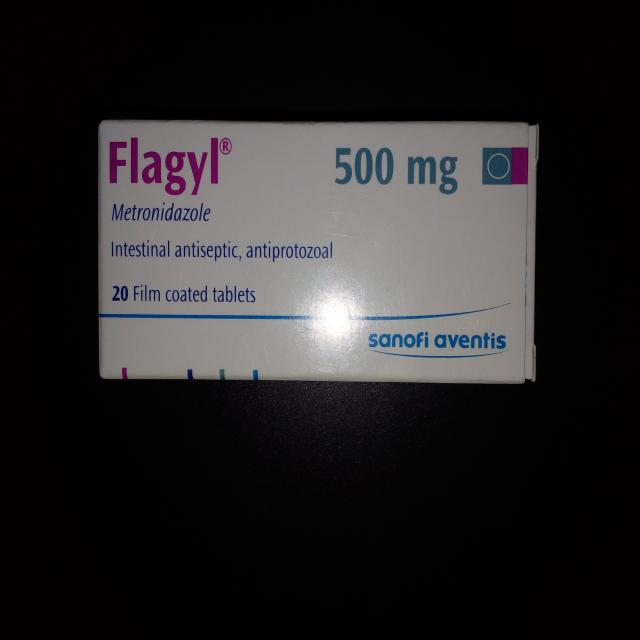Medicine: (90, 108, 540, 384)
